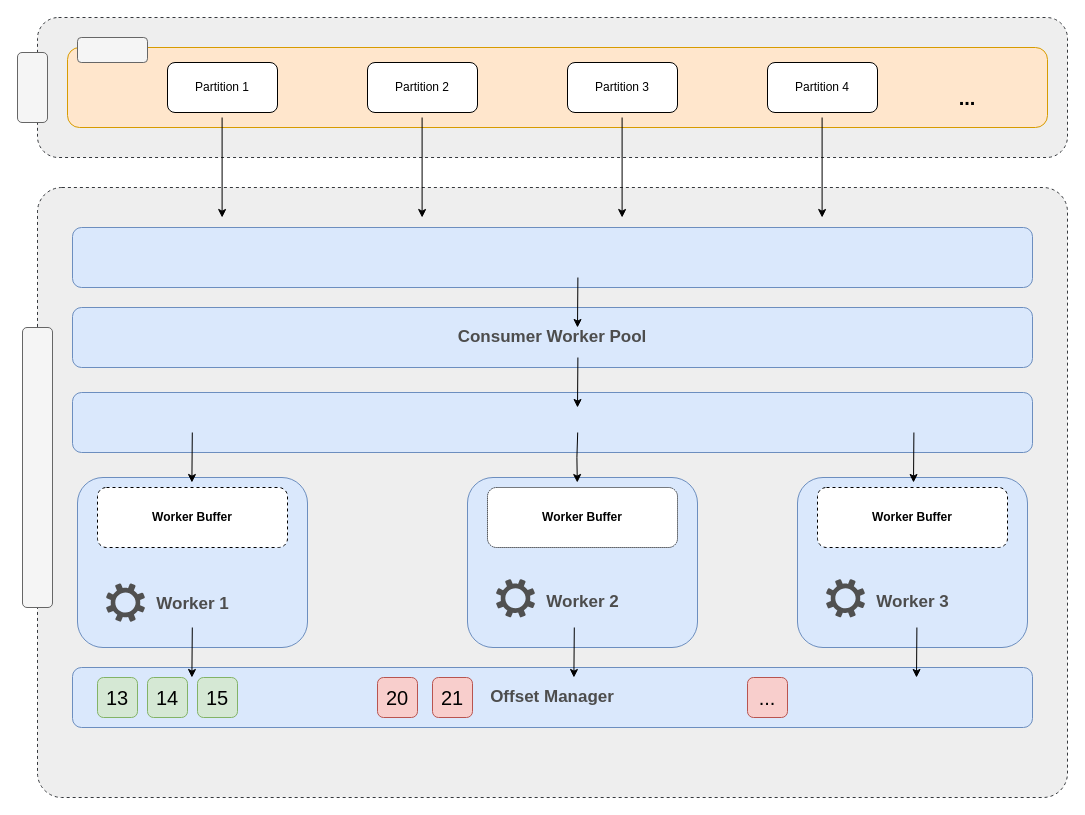
Some shapes in this 1085 by 815 pixel diagram are drawn without their labels. The shapes that lost their labels are listed below. From the top down, each one's centre as x and y in pixels, then its label:
At [112,49]: "Topic".
At [32,87]: "Kafka".
At [552,257]: "Consumer".
At [552,422]: "Distribution Strategy".
At [37,467]: "Kafka Client Consumer".
